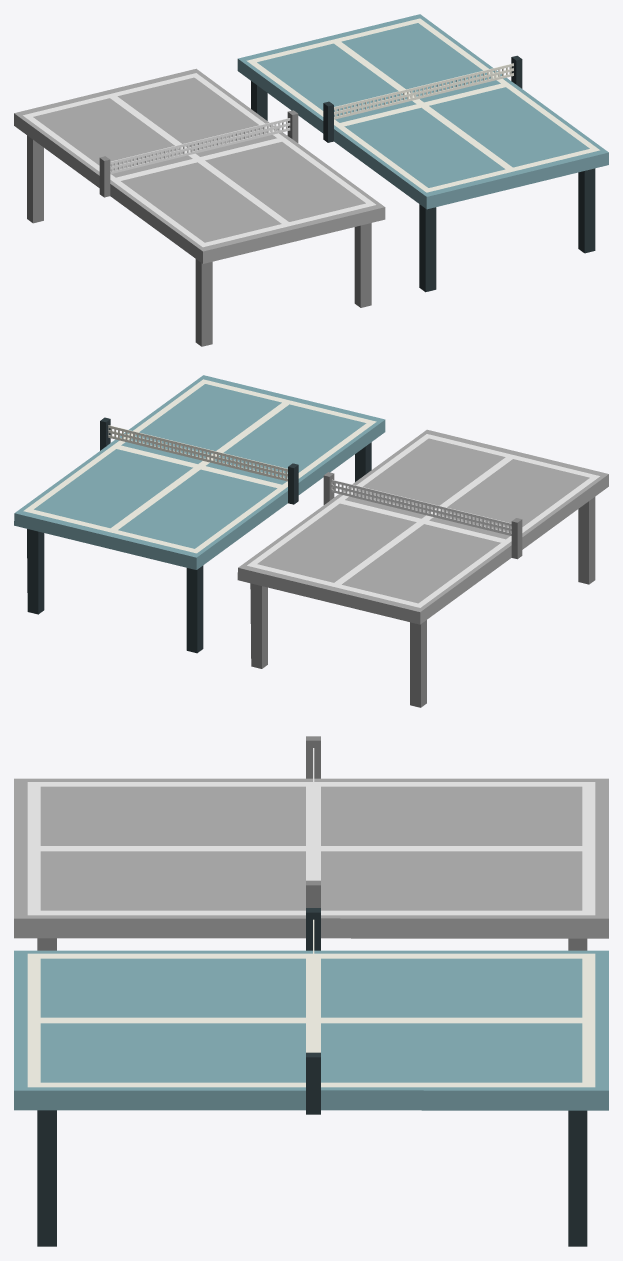
The model's file is Tenis Tables.FBX.
3 renders of one model, top to bottom at view 1: azimuth 30°, elevation 25°; view 2: azimuth 150°, elevation 25°; view 3: azimuth 270°, elevation 25°, orthographic. The views are drawn at different scales.
Parts seen in each view (by area): view 1: PingPongTable, PingPongTable001; view 2: PingPongTable, PingPongTable001; view 3: PingPongTable001, PingPongTable.
Boxes of the visible parts, x1,y1,x2,y2 form: PingPongTable: [14, 68, 385, 346]; PingPongTable001: [237, 14, 608, 292]; PingPongTable: [237, 429, 608, 707]; PingPongTable001: [14, 375, 385, 653]; PingPongTable001: [14, 908, 608, 1246]; PingPongTable: [14, 736, 608, 950].
Bounding box in the file's own units: 1174 × 339 × 920.
